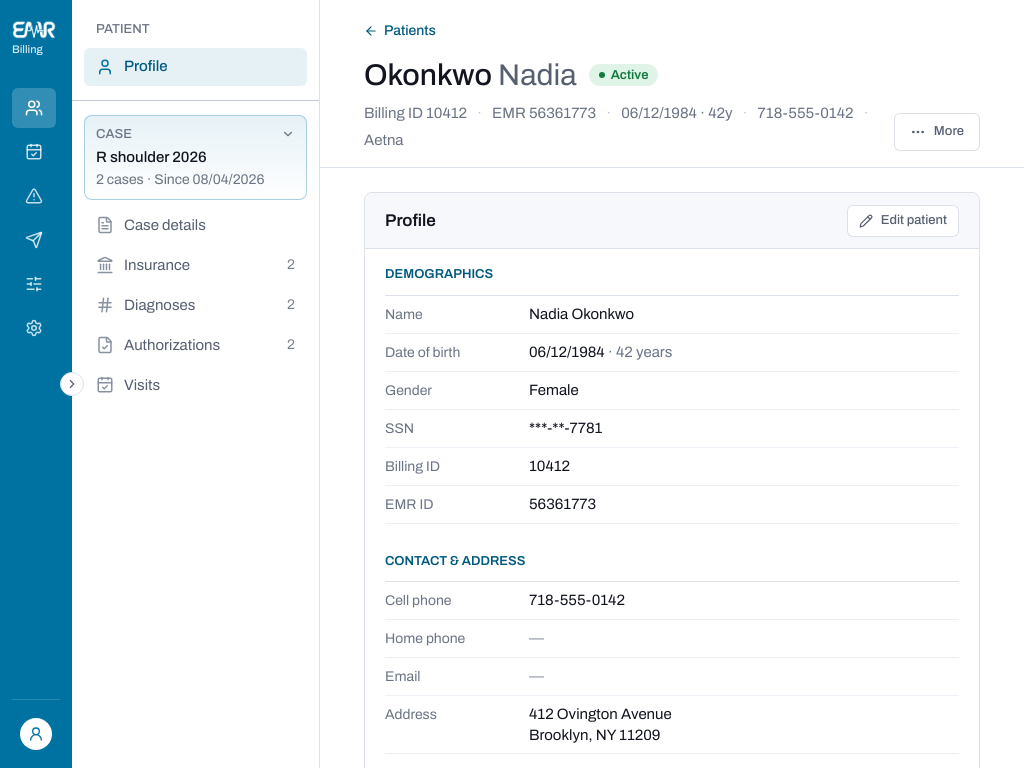
the patient chart — header and Profile › deletes the patient from More, after asking, and goes back to the roster
Click the button with aria-label "More actions for Nadia Okonkwo".
click(937, 132)  # box [894,113,980,151]
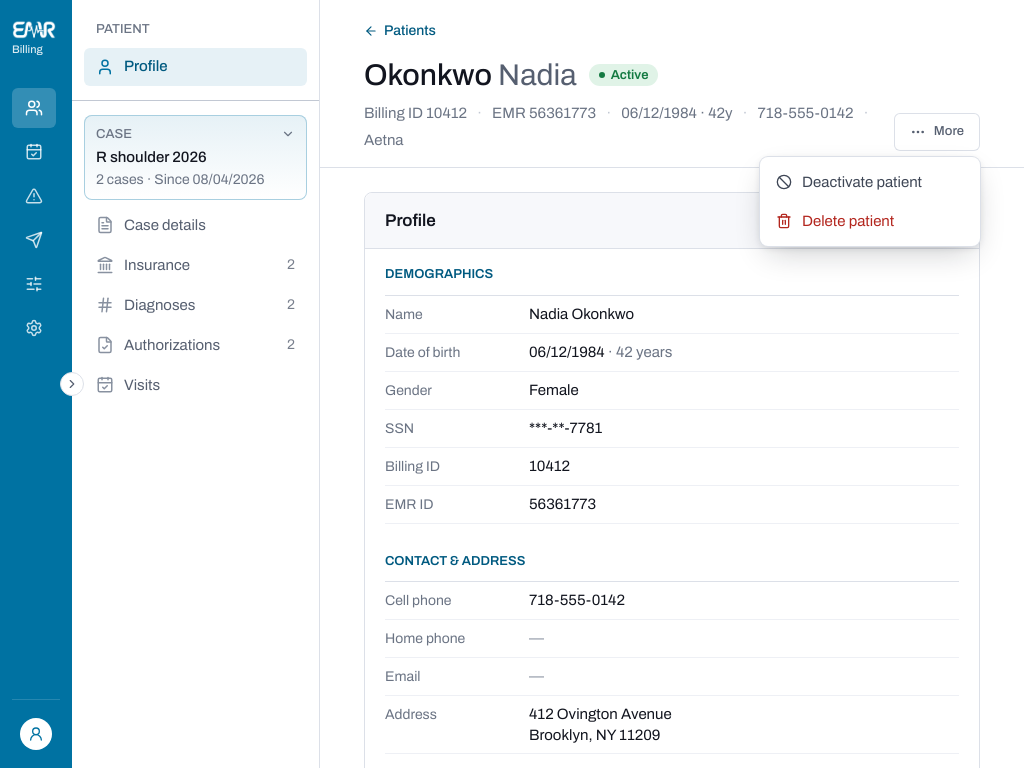
Click the menu item "Delete patient".
click(835, 221)  # box [776,212,894,229]
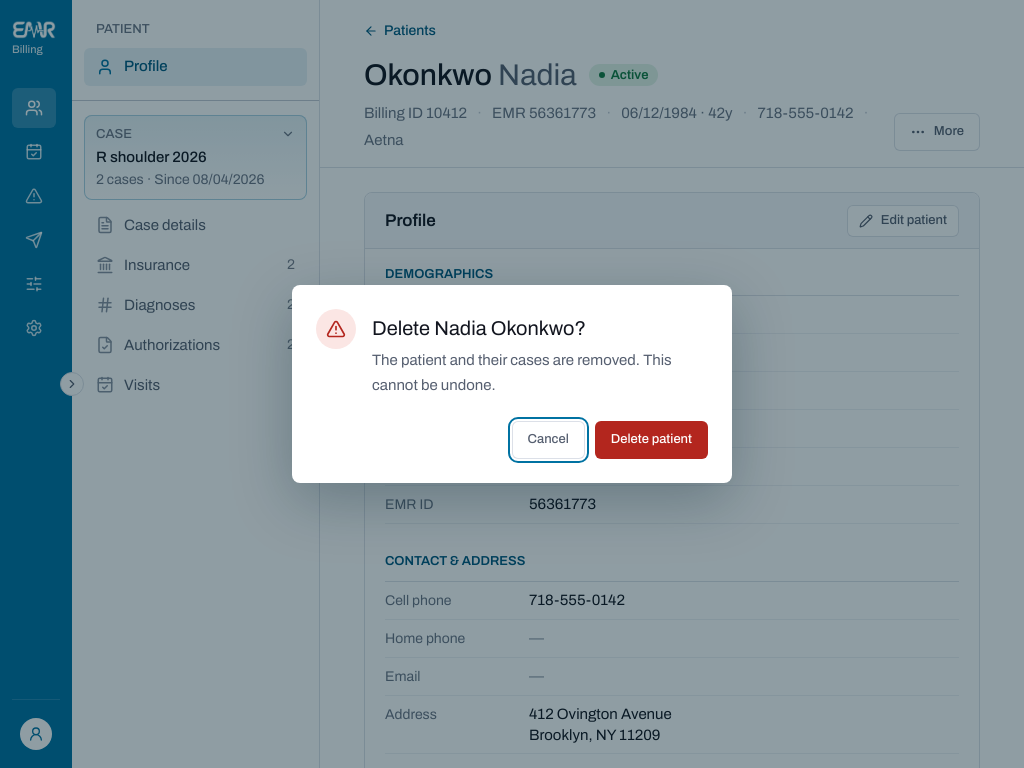
Now the text "The patient and their cases are removed. This cannot be undone." is shown, box [372,348,708,397]
Click the button "Delete patient".
click(651, 440)  # box [595,421,708,459]
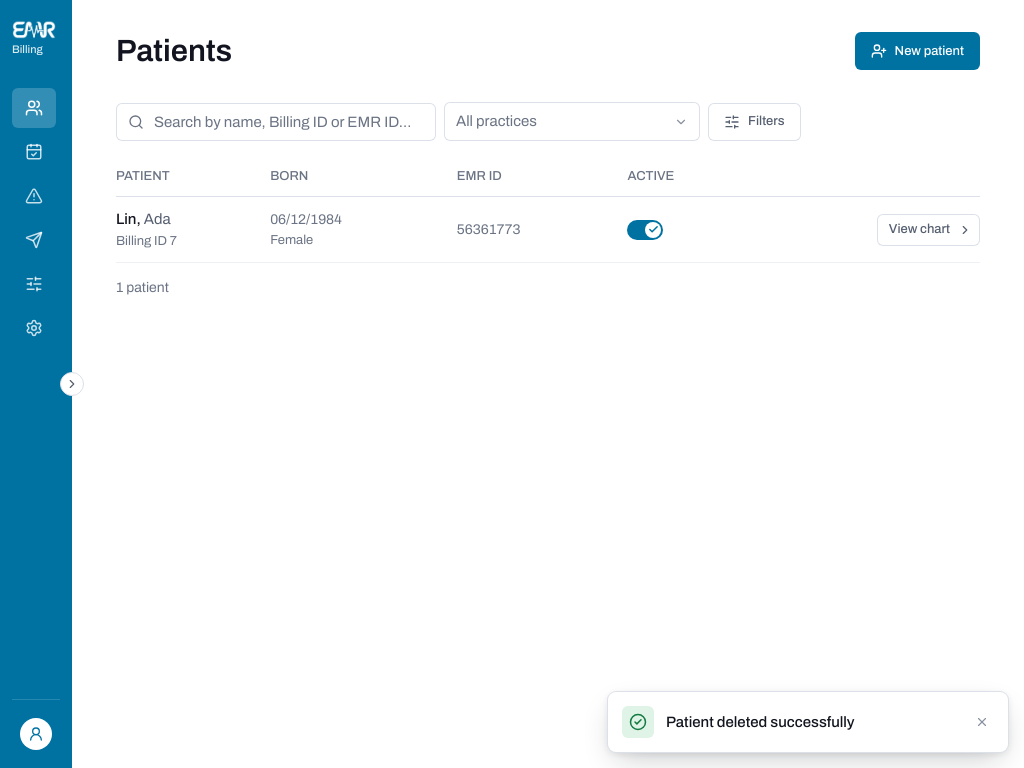
Now the table named "Patients" shows "Lin, Ada", box [116,153,980,263]
Now the text "Okonkwo" is gone
